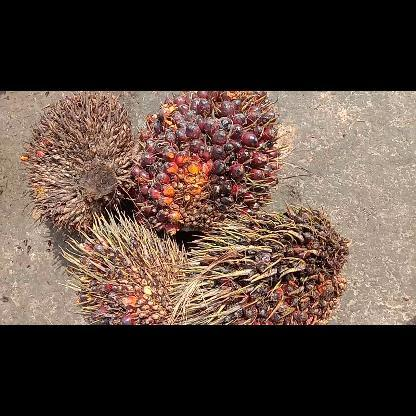Kurang masak: (166, 204, 352, 324)
TBS abnormal: (21, 92, 139, 235), (57, 210, 195, 324)
Terlalu masak: (132, 90, 284, 233)
